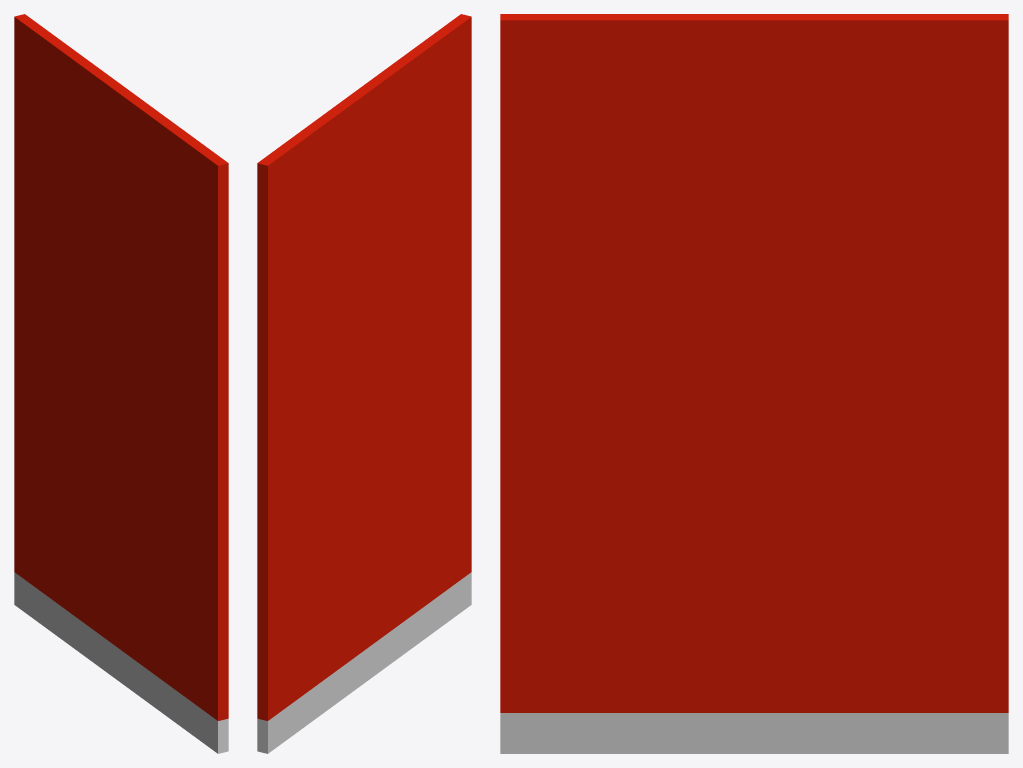
The model's file is digitalpaper.fbx.
3 renders of one model, left to right at view 1: azimuth 30°, elevation 25°; view 2: azimuth 150°, elevation 25°; view 3: azimuth 270°, elevation 25°, orthographic. The views are drawn at different scales.
Parts seen in each view (by area): view 1: Cube; view 2: Cube; view 3: Cube.
Part boxes in pixels (left/top/right/bottom): Cube: left=14, top=14, right=228, bottom=753; Cube: left=257, top=14, right=471, bottom=753; Cube: left=500, top=14, right=1008, bottom=753.
Size of the model in its own units: 0.8556 by 45.03 by 28.3.
